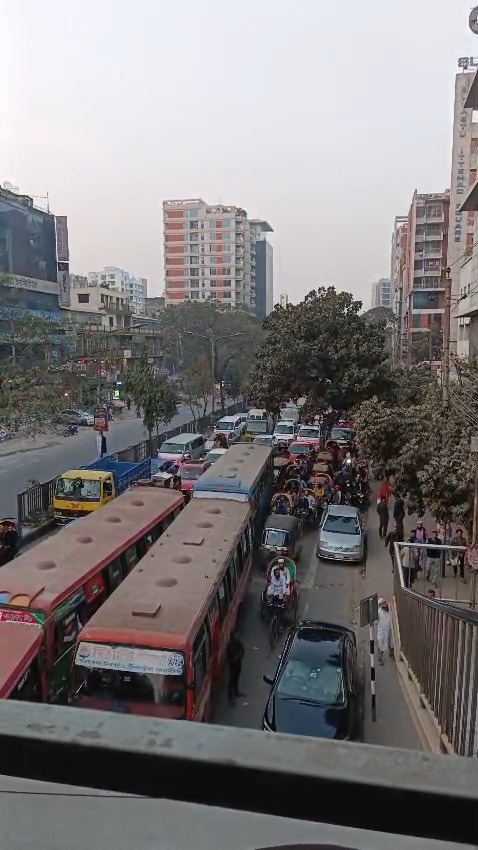Bus: (58, 492, 260, 725), (0, 488, 190, 694)
Truck: (49, 447, 154, 521)
cng: (260, 513, 303, 564)
private car: (261, 621, 362, 743), (314, 500, 369, 568), (158, 430, 205, 460), (212, 413, 245, 444), (272, 419, 295, 446), (297, 425, 322, 448)
